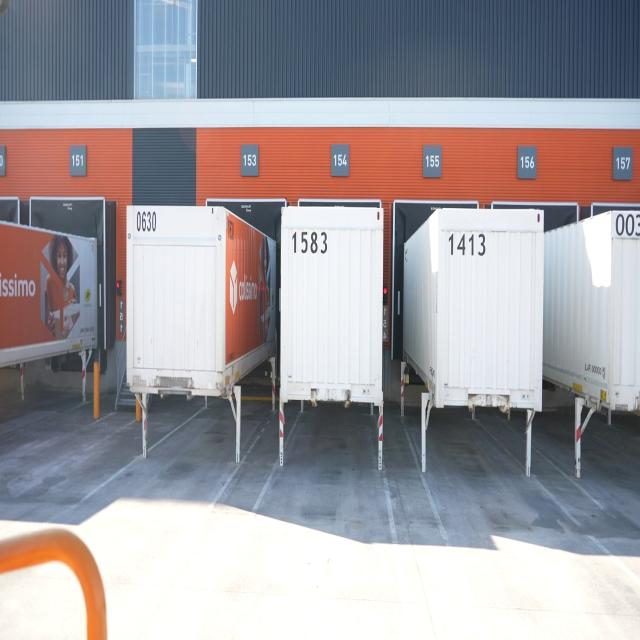Code: (447, 230, 487, 264), (290, 228, 329, 259), (134, 210, 159, 236)
